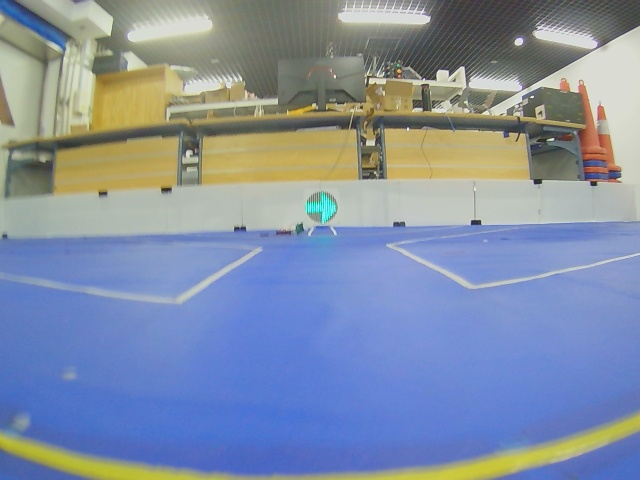right_green: (305, 191, 338, 224)
